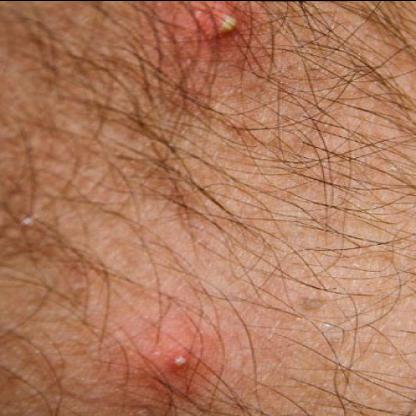Fire ant: (182, 2, 252, 38), (158, 344, 200, 370)
